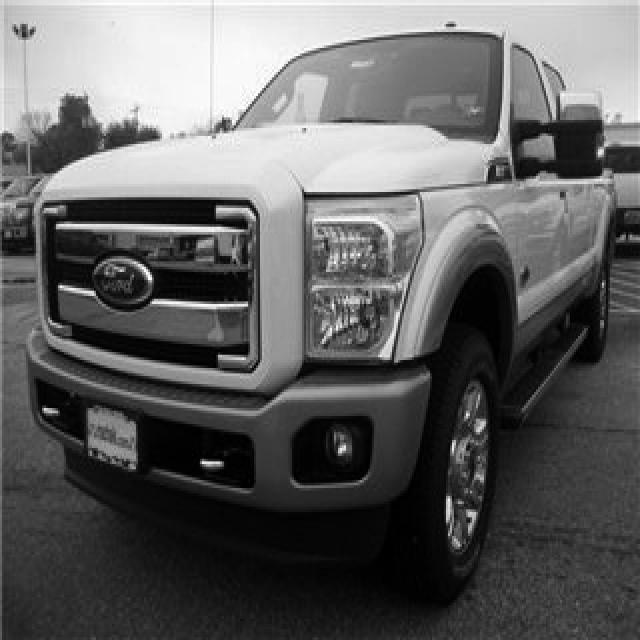car: (24, 19, 616, 605)
